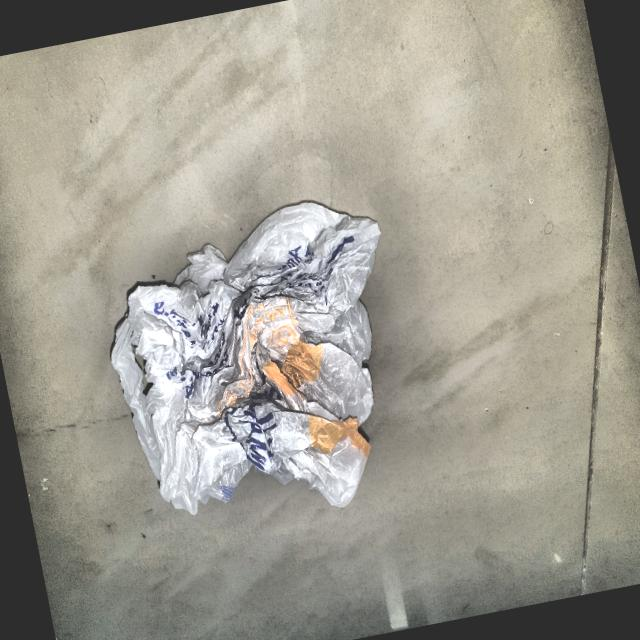plastic bag: (85, 172, 448, 558)
